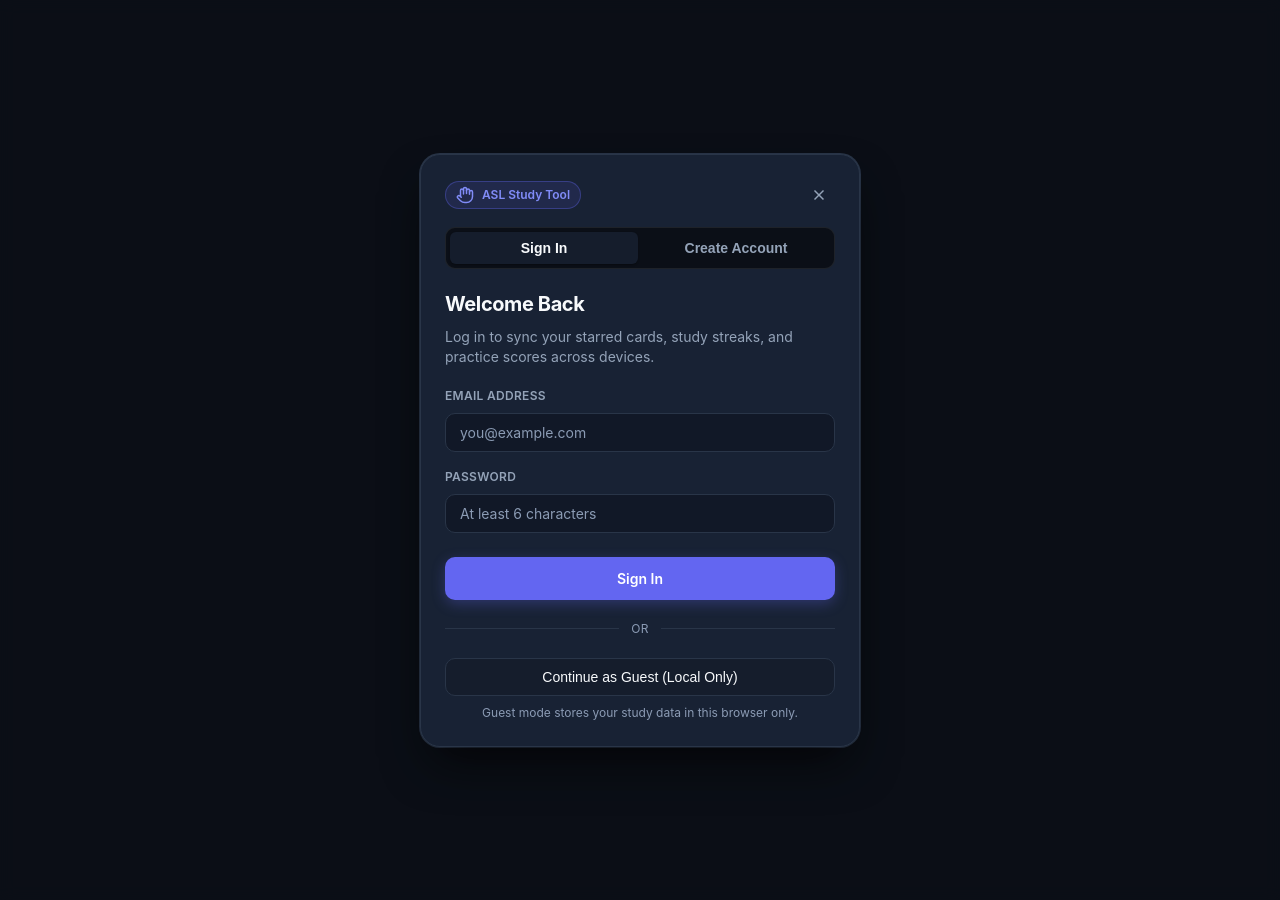
Test case: AuthModal Component › switches tabs between Sign In and Create Account
Click the tab "Create Account". click: (736, 248)
box: top-left (642, 232), bottom-right (830, 264)
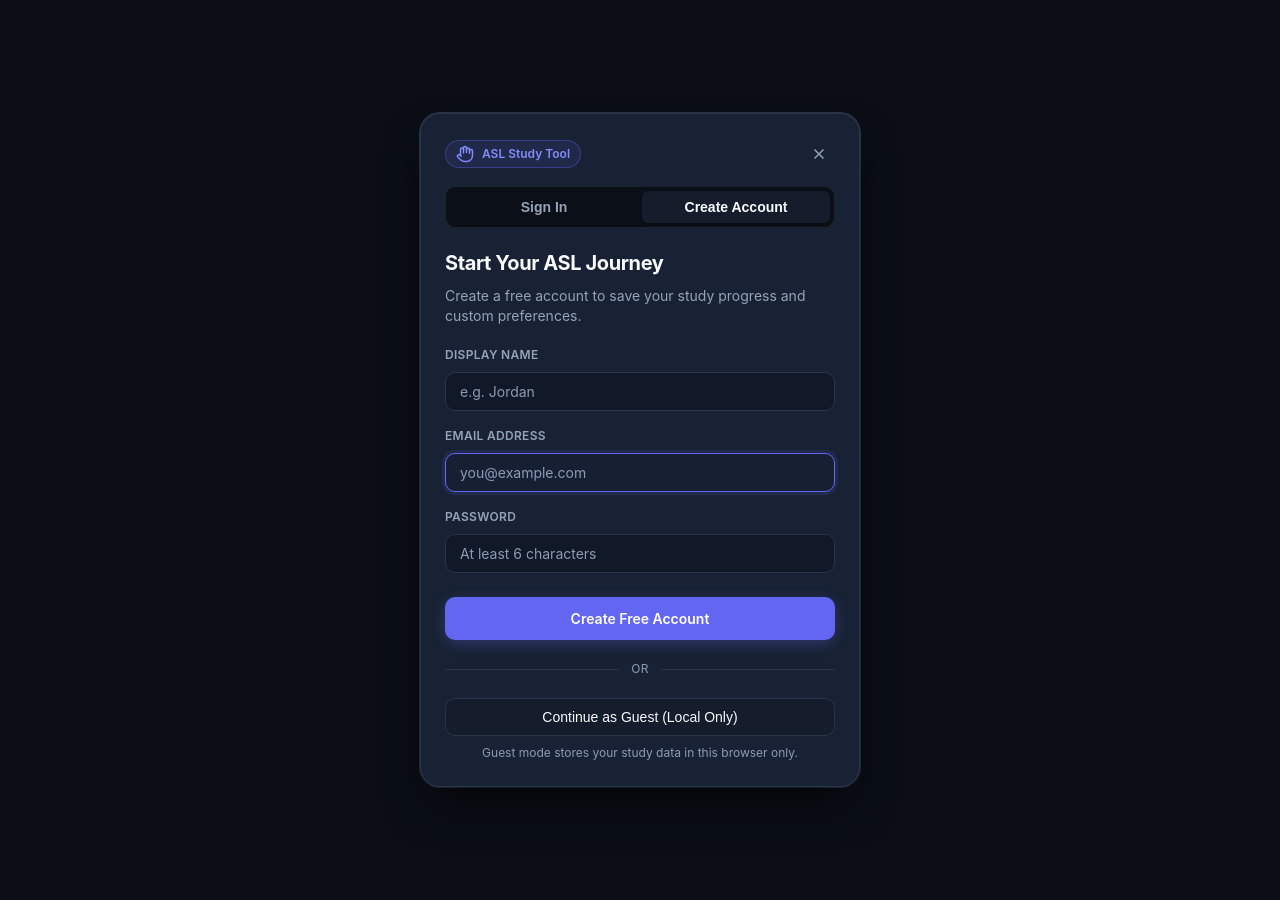
Result: the field labelled "Display Name" is shown at top-left (445, 372), bottom-right (835, 411)
Result: the button "Create Free Account" is shown at top-left (445, 597), bottom-right (835, 640)
